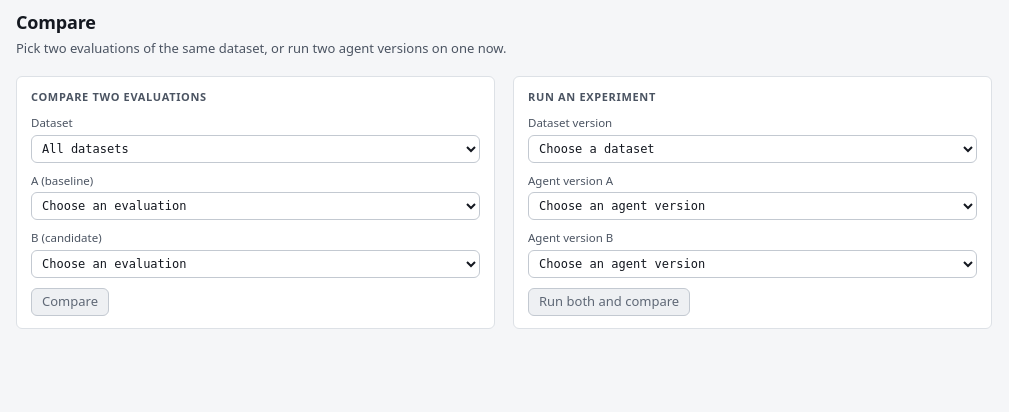
Test case: CompareView › picks two suites, warning before comparing different dataset content
Select "research_assistant@v1 · research-assistant@1 · 6/10 · suite-v1" in the dropdown labelled "A (baseline)" at {"x": 256, "y": 206}, box x1=31 y1=192 x2=480 y2=220
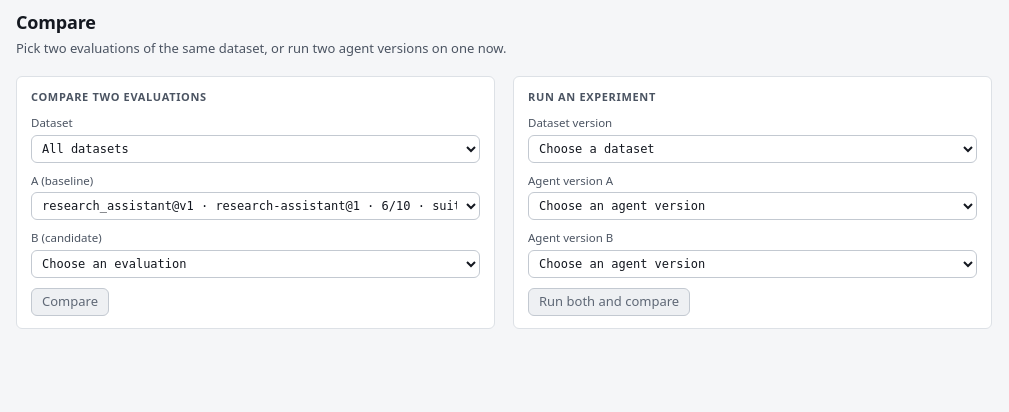
Select "research_assistant@v1 · research-assistant@1 · 6/10 · suite-ot" in the dropdown labelled "B (candidate)" at {"x": 256, "y": 264}, box x1=31 y1=250 x2=480 y2=278
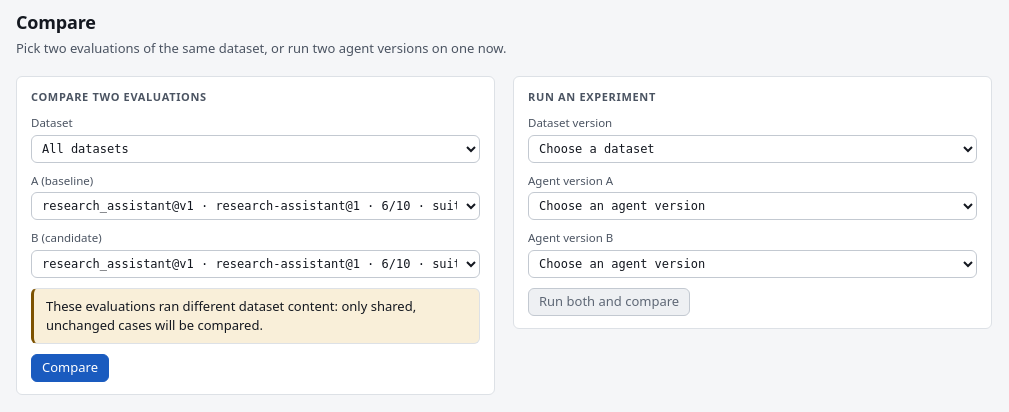
Expected: the text "These evaluations ran different dataset content" is shown, x1=46 y1=297 x2=416 y2=334
Click the button "Compare" at {"x": 70, "y": 368}, box x1=31 y1=354 x2=109 y2=382
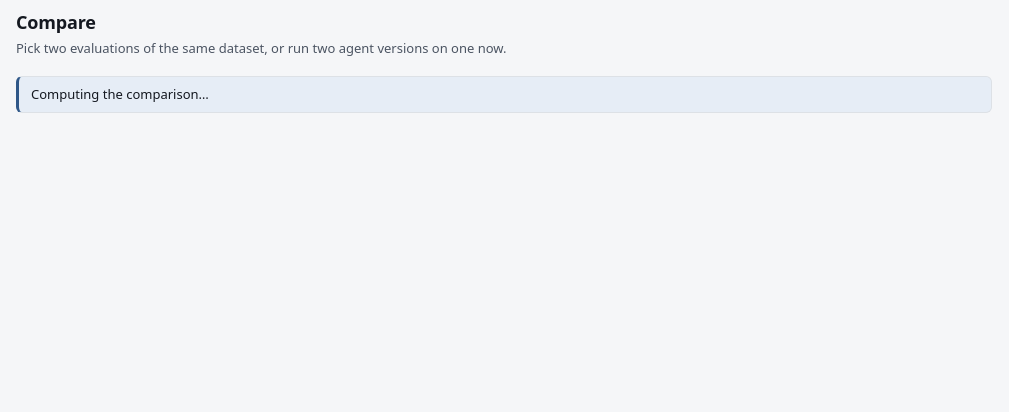
Expected: the message "Computing the comparison…" is shown, x1=16 y1=76 x2=992 y2=113
